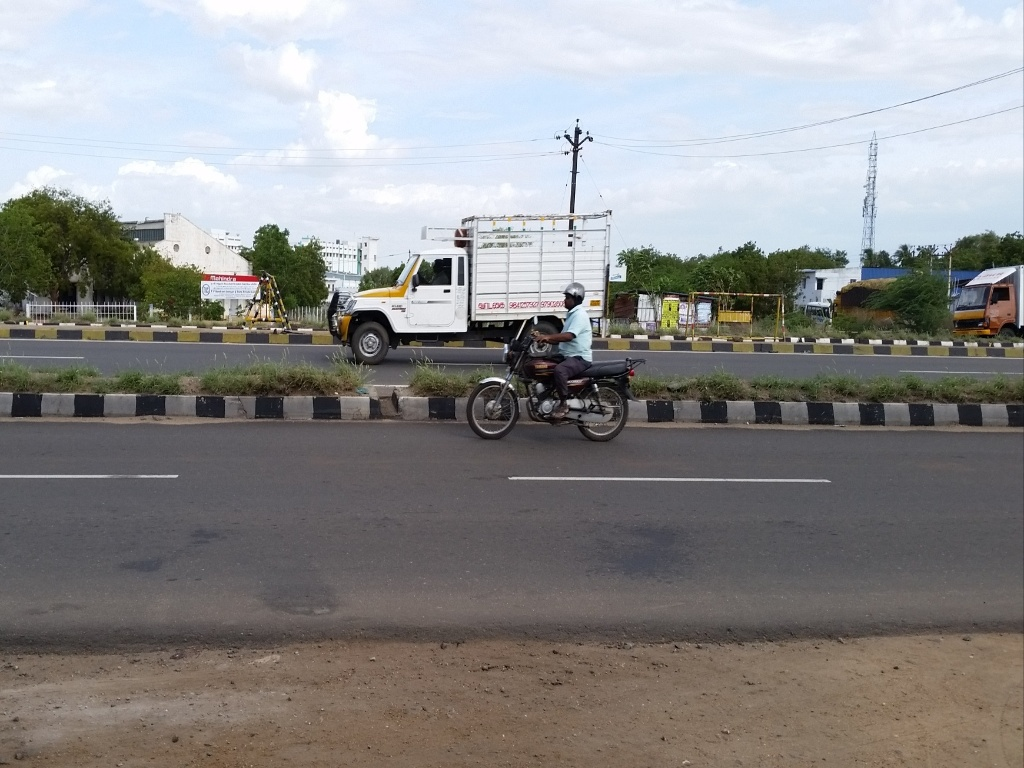biker: (455, 261, 646, 458)
helmet: (557, 278, 591, 325)
